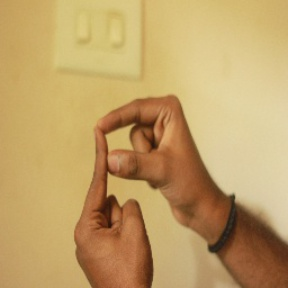P: (66, 88, 185, 246)
